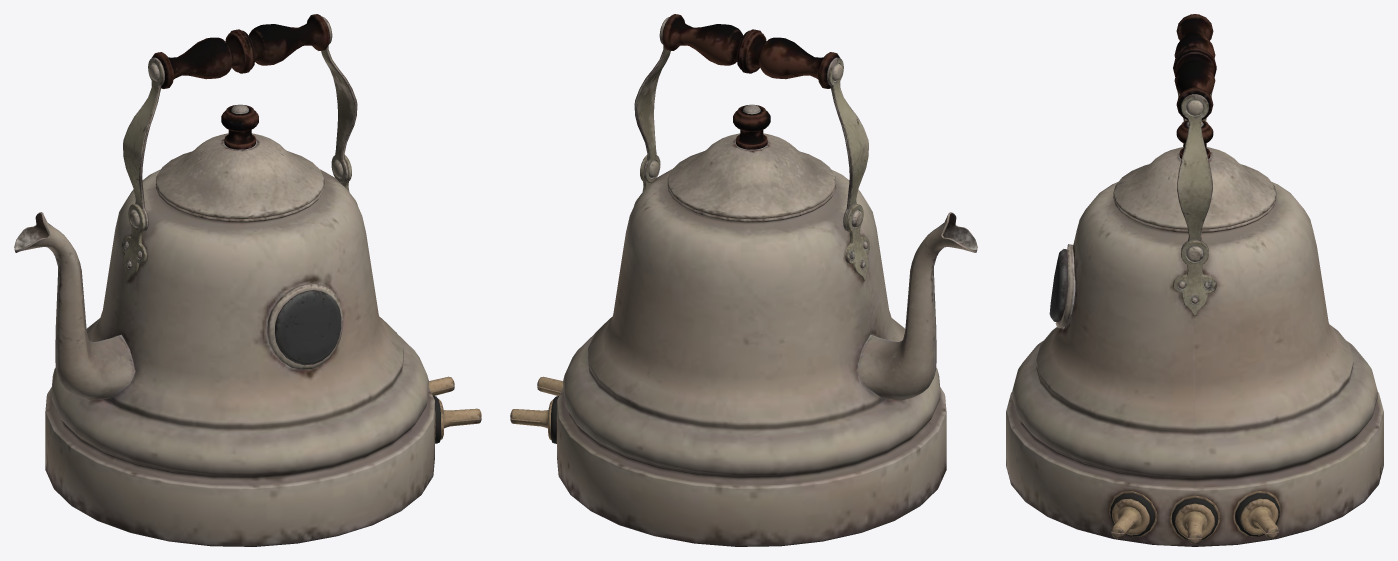
Rendered from kettle.glb.
3 views of the same model, side by side, from view 1: azimuth 30°, elevation 25°; view 2: azimuth 150°, elevation 25°; view 3: azimuth 270°, elevation 25° (orthographic). The views are drawn at different scales.
Visible parts, largest first — view 1: vintage_electric_kettle; view 2: vintage_electric_kettle; view 3: vintage_electric_kettle.
Part boxes in pixels (x1=…): vintage_electric_kettle: x1=14, y1=14, x2=481, y2=546; vintage_electric_kettle: x1=510, y1=14, x2=977, y2=546; vintage_electric_kettle: x1=1006, y1=14, x2=1383, y2=546.
Size of the model in its own units: 0.3209 by 0.3047 by 0.2486.
Materials: 2 (2 with a texture image).
